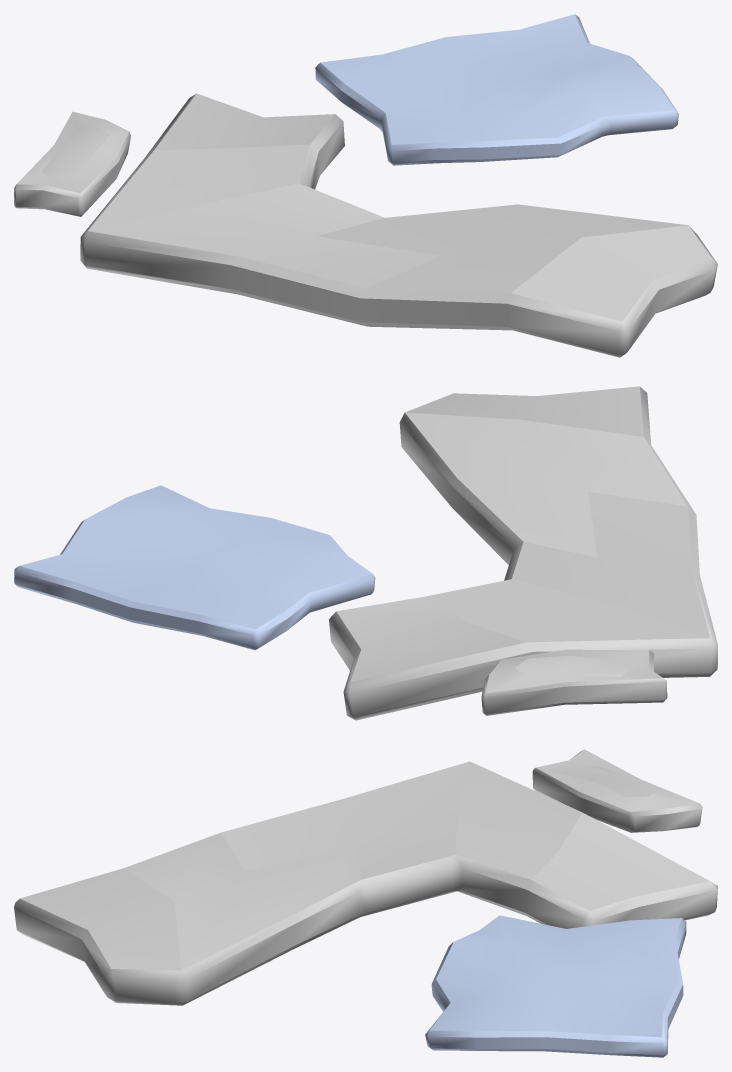
Rendered from floe6.fbx.
3 renders of one model, top to bottom at view 1: azimuth 30°, elevation 25°; view 2: azimuth 150°, elevation 25°; view 3: azimuth 270°, elevation 25°, orthographic. The views are drawn at different scales.
Visible parts, largest first — view 1: Plane.015, Plane.013, Plane.020; view 2: Plane.015, Plane.013, Plane.020; view 3: Plane.015, Plane.013, Plane.020.
Part boxes in pixels (<box>): Plane.015: <box>80,93,717,357</box>; Plane.013: <box>315,14,678,165</box>; Plane.020: <box>14,111,130,216</box>; Plane.015: <box>329,386,717,720</box>; Plane.013: <box>14,485,375,650</box>; Plane.020: <box>481,649,667,715</box>; Plane.015: <box>14,761,717,1005</box>; Plane.013: <box>425,915,686,1057</box>; Plane.020: <box>532,749,702,832</box>.
Bounding box in the file's own units: 374 × 42.5 × 388.
